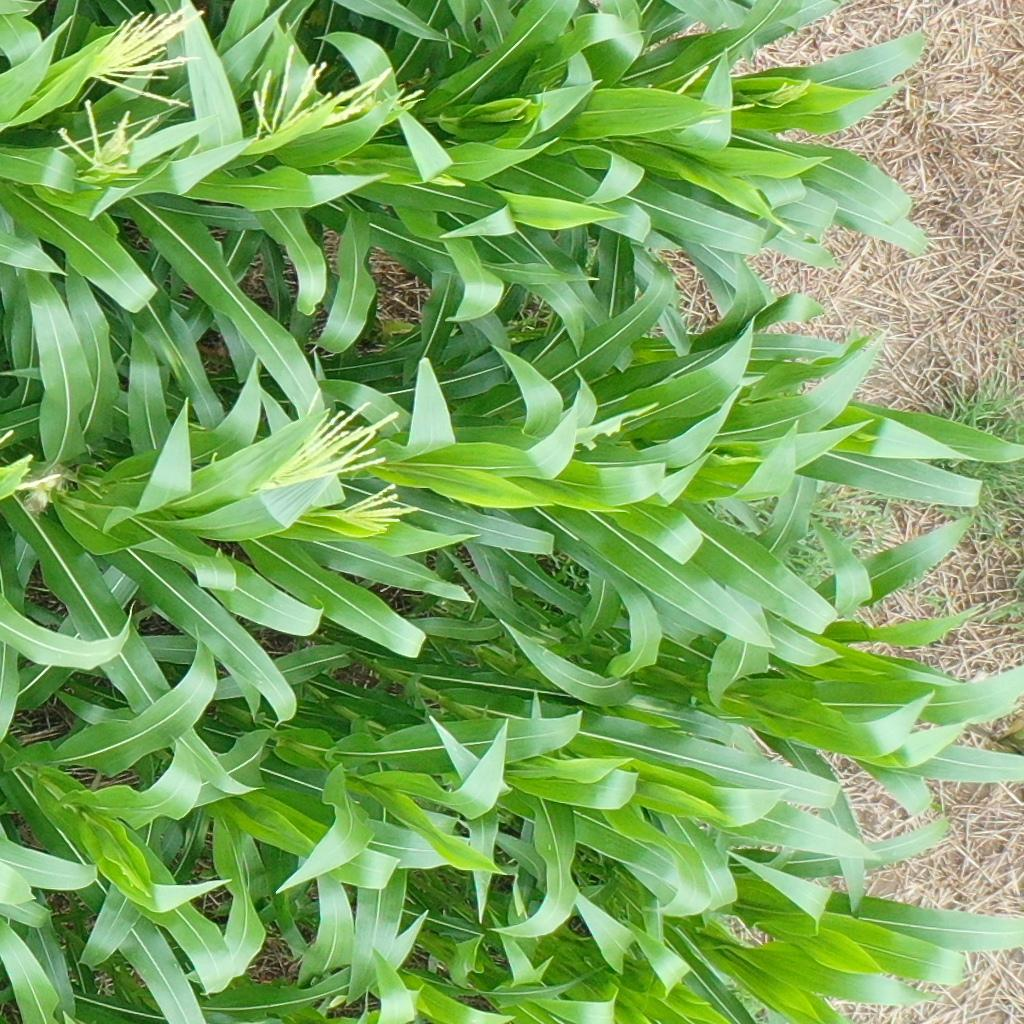Tassel: (242, 42, 430, 142), (253, 383, 402, 488), (79, 2, 205, 111), (55, 97, 164, 184), (649, 60, 757, 123), (1, 425, 61, 504), (320, 490, 419, 536), (768, 74, 811, 111), (430, 172, 469, 192)
